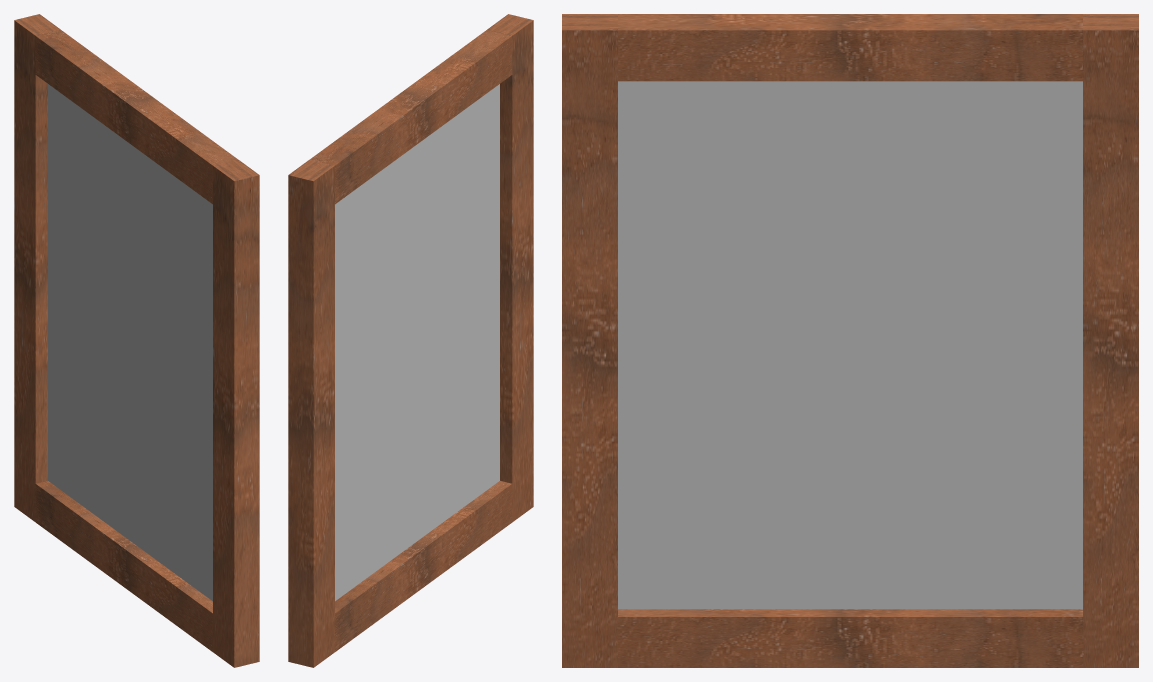
File: hanging_picture_frame.glb
3 renders of one model, left to right at view 1: azimuth 30°, elevation 25°; view 2: azimuth 150°, elevation 25°; view 3: azimuth 270°, elevation 25°, orthographic. The views are drawn at different scales.
Parts seen in each view (by area): view 1: Cube, Cube.001-col; view 2: Cube, Cube.001-col; view 3: Cube, Cube.001-col.
Boxes of the visible parts, x1=… form: Cube: x1=48, y1=84, x2=212, y2=601; Cube.001-col: x1=14, y1=14, x2=259, y2=667; Cube: x1=335, y1=84, x2=499, y2=601; Cube.001-col: x1=288, y1=14, x2=533, y2=667; Cube: x1=618, y1=81, x2=1082, y2=609; Cube.001-col: x1=562, y1=14, x2=1138, y2=667.
Bounding box in the file's own units: 0.0751 × 1.38 × 1.13.
Materials: 2 (1 with a texture image).
